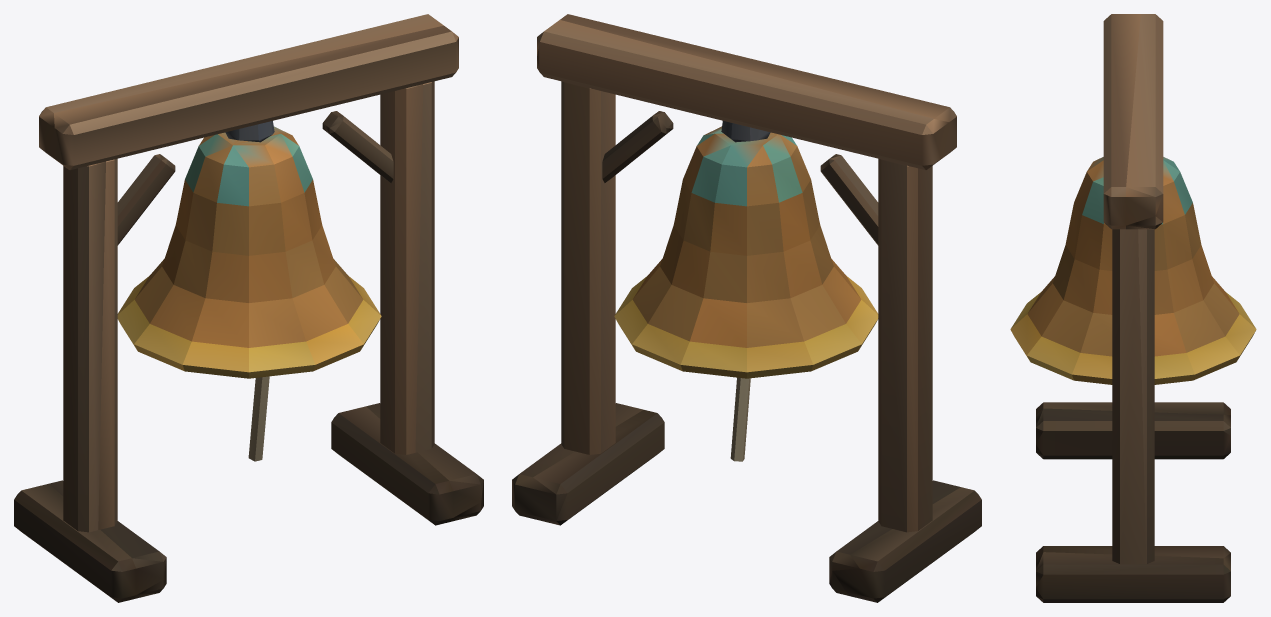
The model's file is bell.low.glb.
The picture shows the model from 3 angles, left to right: view 1: azimuth 30°, elevation 25°; view 2: azimuth 150°, elevation 25°; view 3: azimuth 270°, elevation 25°; orthographic projection. The views are drawn at different scales.
Parts seen in each view (by area): view 1: bell; view 2: bell; view 3: bell.
Part boxes in pixels (bbox=[...]): bell: bbox=[14, 14, 483, 602]; bell: bbox=[512, 14, 981, 602]; bell: bbox=[1010, 14, 1256, 602].
Bounding box in the file's own units: 1 × 1.09 × 0.5801.
